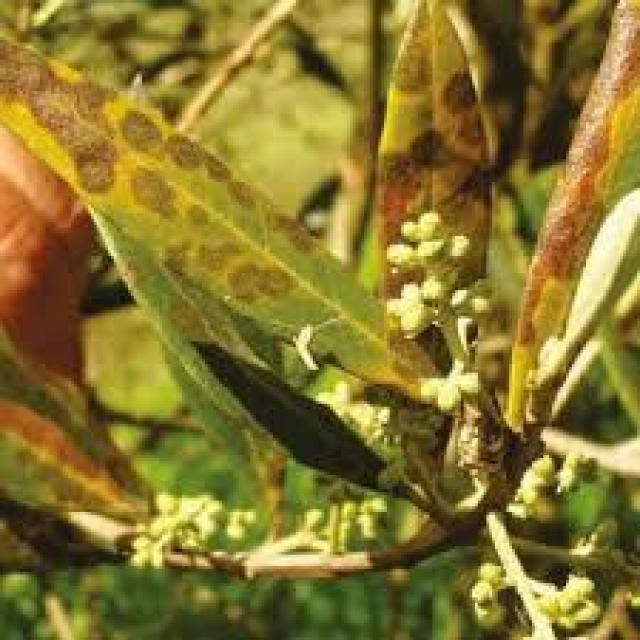OlivePeacockSpot: (0, 40, 455, 415), (506, 0, 637, 427), (376, 3, 492, 276)
